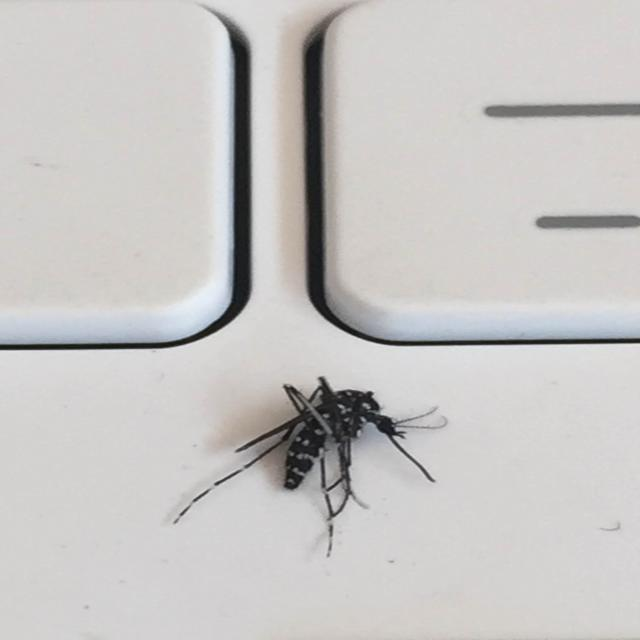albopictus: (181, 369, 441, 552)
